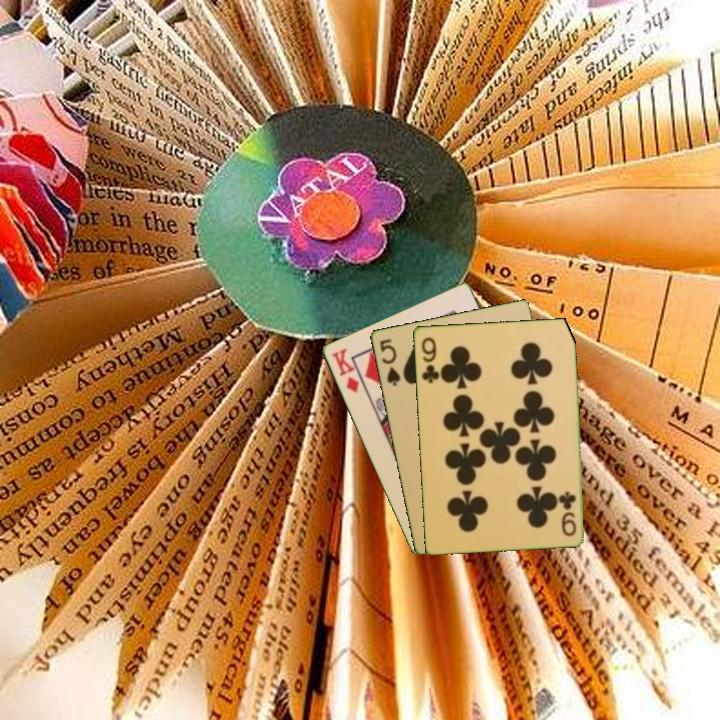5s: (376, 335, 403, 388)
9c: (418, 334, 441, 386), (557, 487, 579, 539)
Kd: (328, 344, 362, 396)
